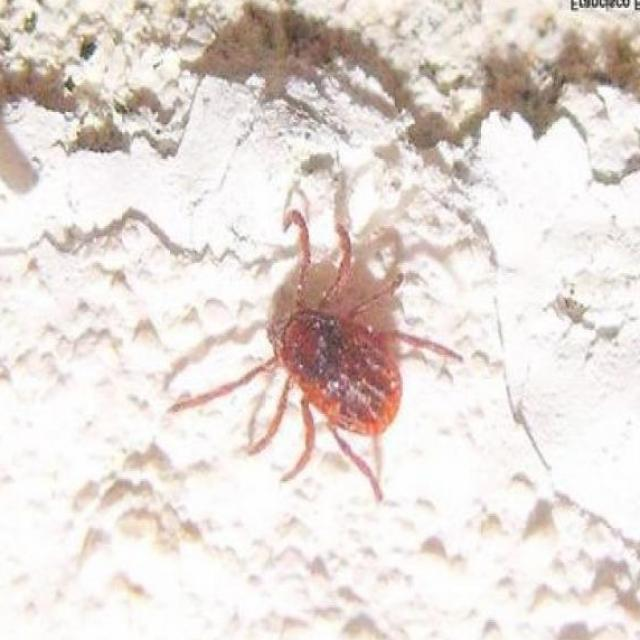Rhipicephalus Sanguineus-F: (165, 189, 463, 502)
